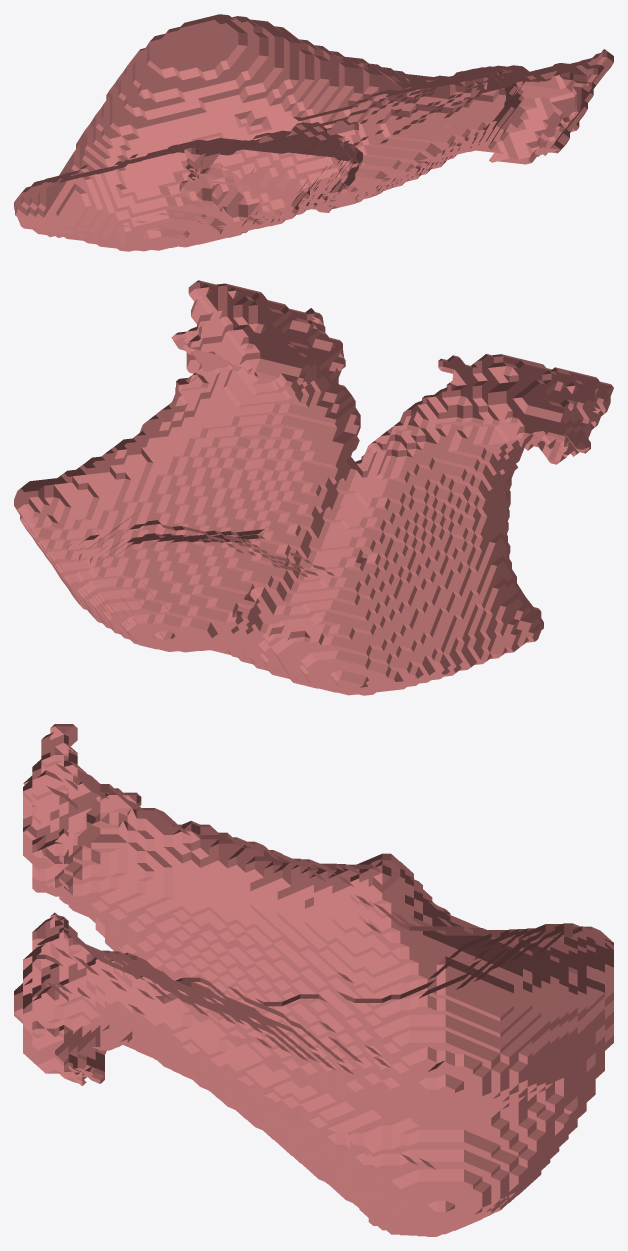
Rendered from region_0076_LCa__caudal_lobe_of_cerebellum_.glb.
3 views of the same model, one above another, from view 1: azimuth 30°, elevation 25°; view 2: azimuth 150°, elevation 25°; view 3: azimuth 270°, elevation 25° (orthographic). The views are drawn at different scales.
Visible parts, largest first — view 1: world; view 2: world; view 3: world.
Boxes of the visible parts, x1,y1,x2,y2 form: world: (14, 14, 613, 251); world: (14, 280, 613, 695); world: (14, 724, 613, 1236).
Size of the model in its own units: 0.704 by 0.288 by 0.528.
